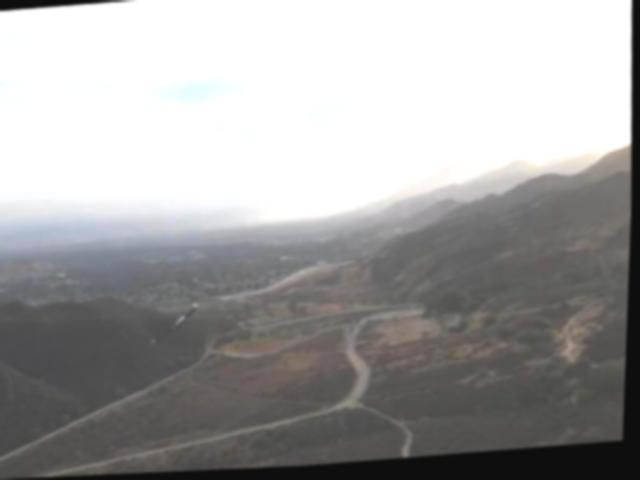iha: (152, 303, 202, 347)
